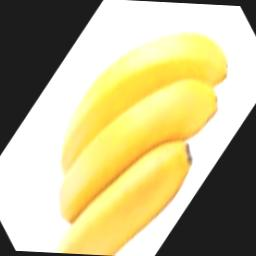Banana Ripe: (4, 15, 254, 256)
